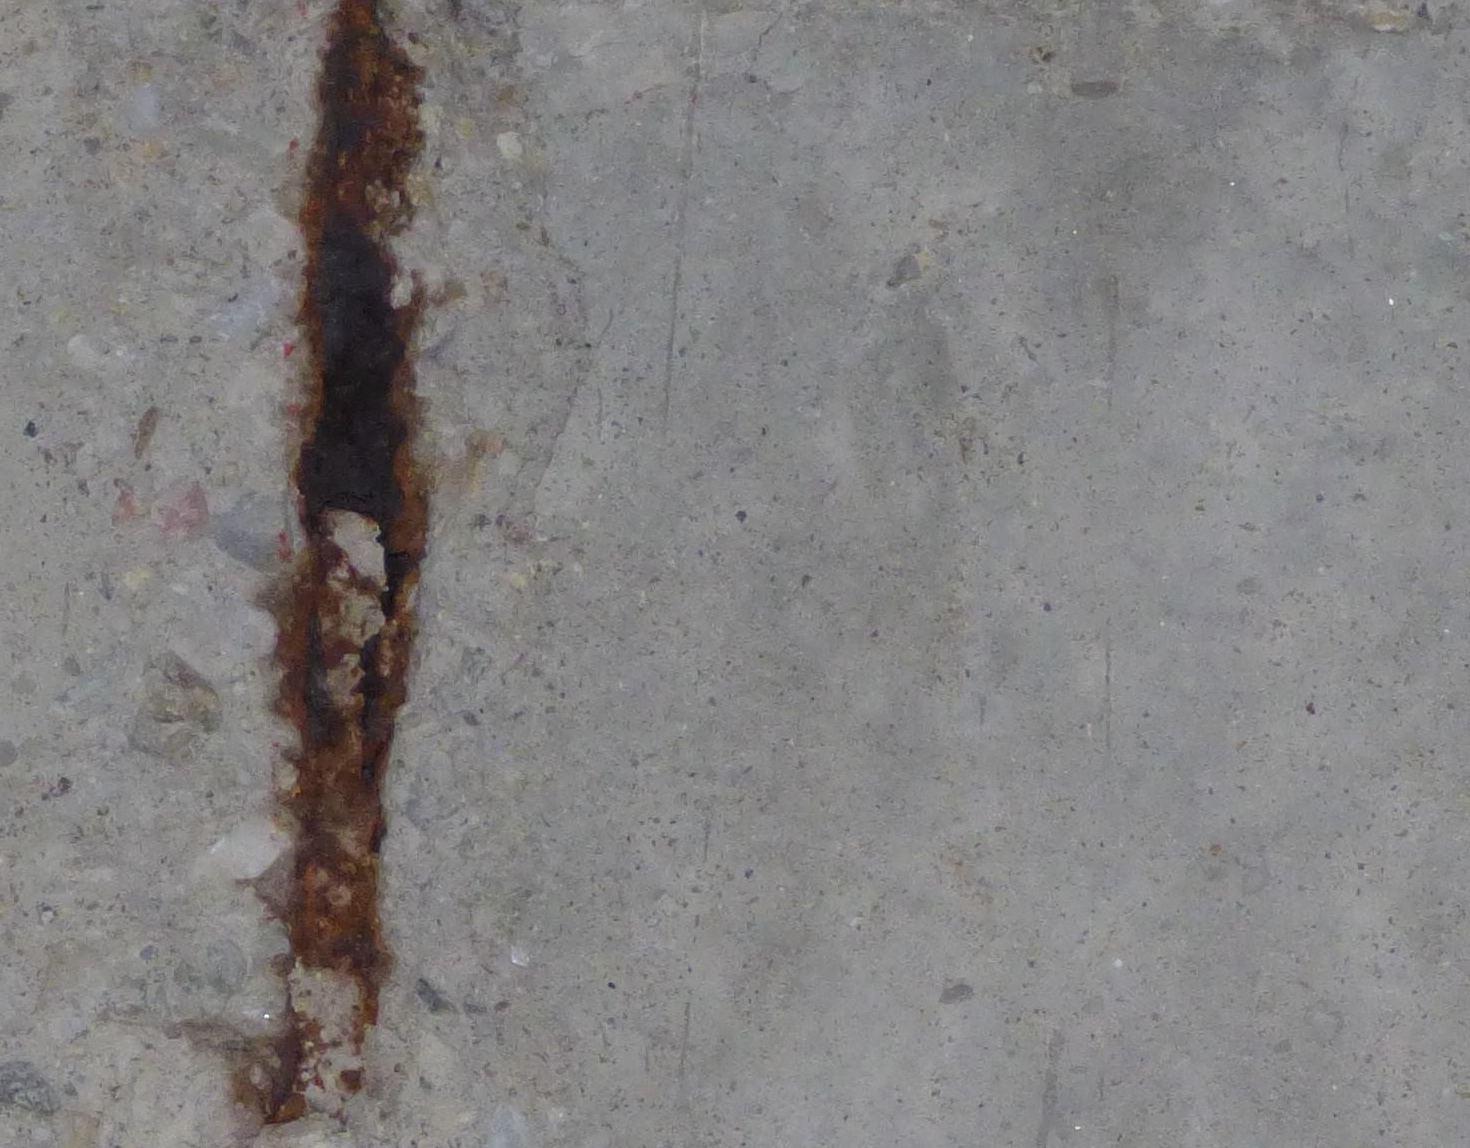Exposed reinforcement: (262, 1, 430, 1128)
